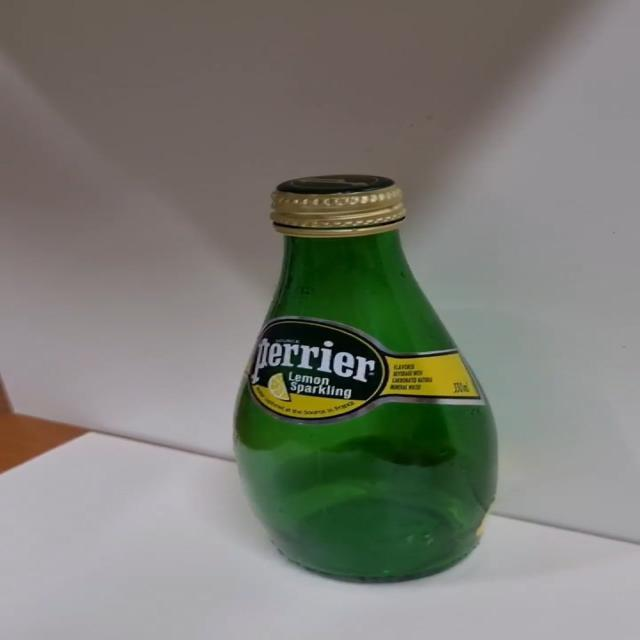Glass: (232, 174, 500, 587)
